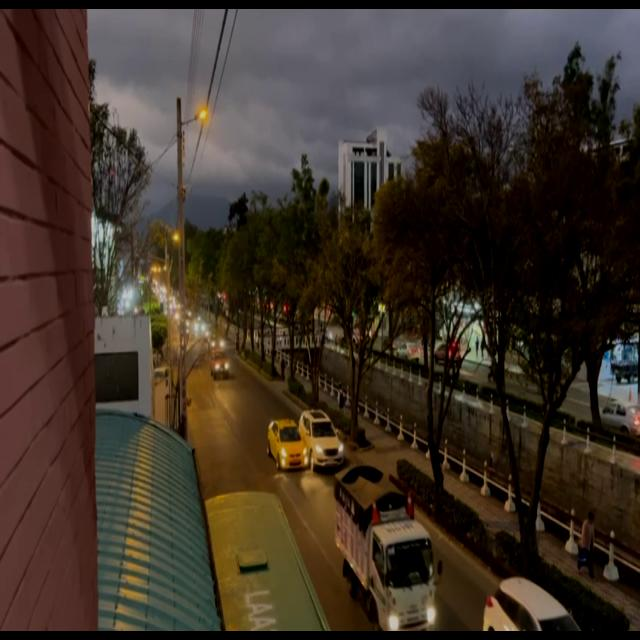SED: (269, 424, 306, 470)
SUV: (308, 411, 346, 470)
TRUCK: (342, 474, 441, 636)
